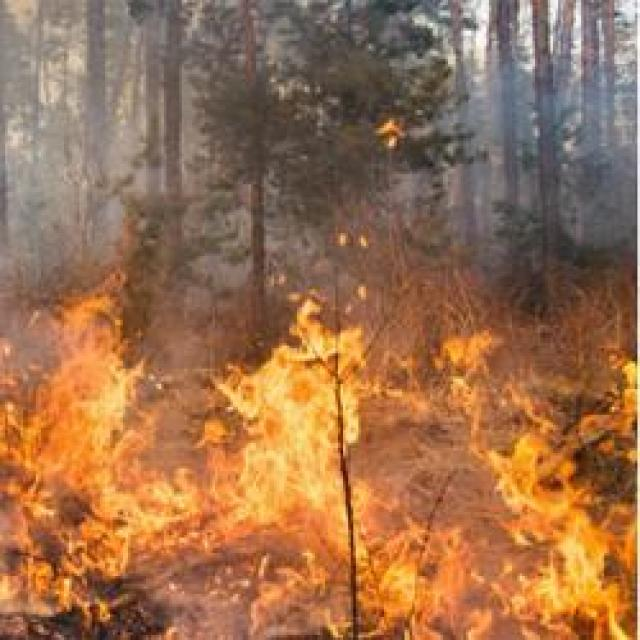fire: (9, 280, 632, 640)
